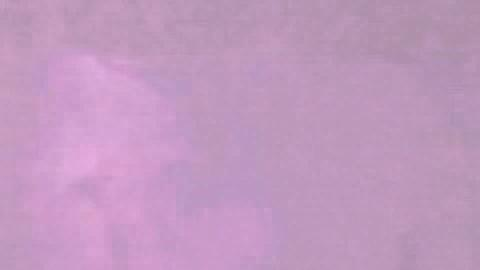tomato: (2, 113, 173, 268)
